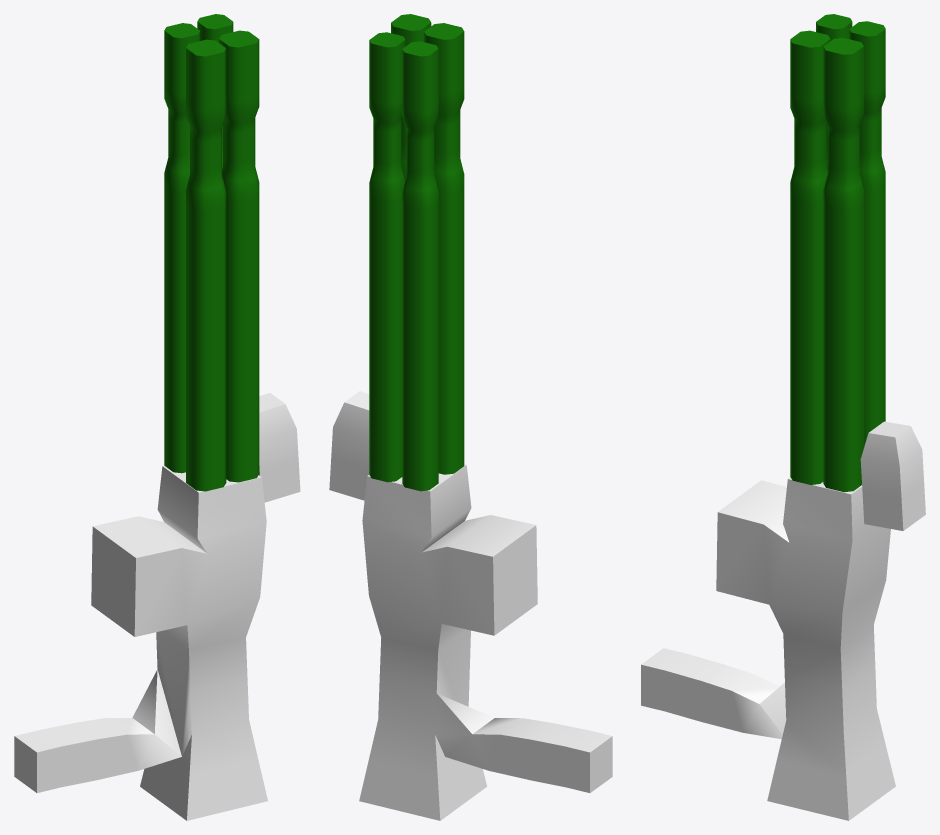
File: gun.glb
3 renders of one model, left to right at view 1: azimuth 30°, elevation 25°; view 2: azimuth 150°, elevation 25°; view 3: azimuth 330°, elevation 25°, orthographic.
Bounding box in the file's own units: 0.3008 × 0.8303 × 0.0932.
Materials: 1 (1 with a texture image).
